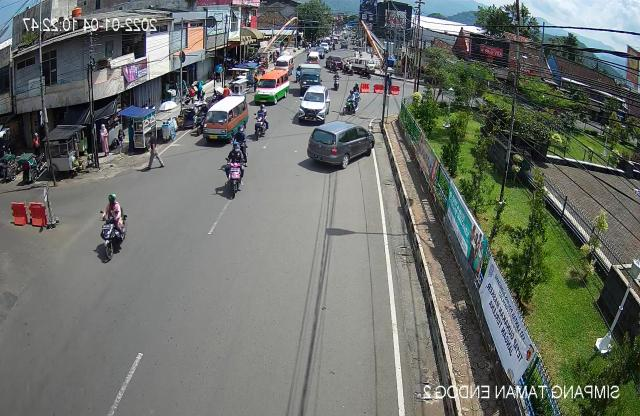Mobil: (304, 115, 374, 174), (199, 91, 250, 144), (291, 81, 336, 129), (252, 69, 292, 109)
Motor: (82, 192, 131, 274), (216, 143, 247, 200), (341, 78, 364, 118), (250, 104, 274, 142)
